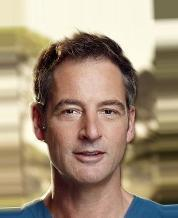face: (58, 97, 120, 163)
